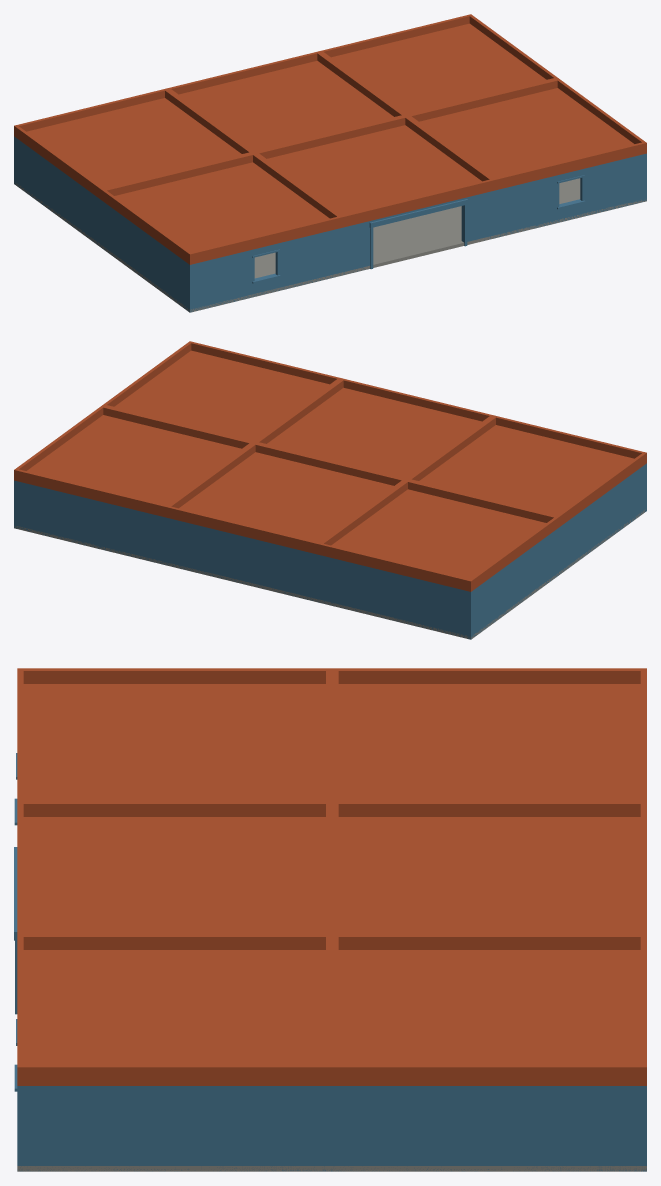
Rendered from warehouse_metal.glb.
The picture shows the model from 3 angles, top to bottom: view 1: azimuth 30°, elevation 25°; view 2: azimuth 150°, elevation 25°; view 3: azimuth 270°, elevation 25°; orthographic projection. The views are drawn at different scales.
Parts seen in each view (by area): view 1: warehouse_metal; view 2: warehouse_metal; view 3: warehouse_metal.
Boxes of the visible parts, x1=… form: warehouse_metal: x1=14, y1=14, x2=646, y2=312; warehouse_metal: x1=14, y1=341, x2=646, y2=639; warehouse_metal: x1=14, y1=668, x2=646, y2=1171.
Size of the model in its own units: 30 by 3.66 by 20.11.
